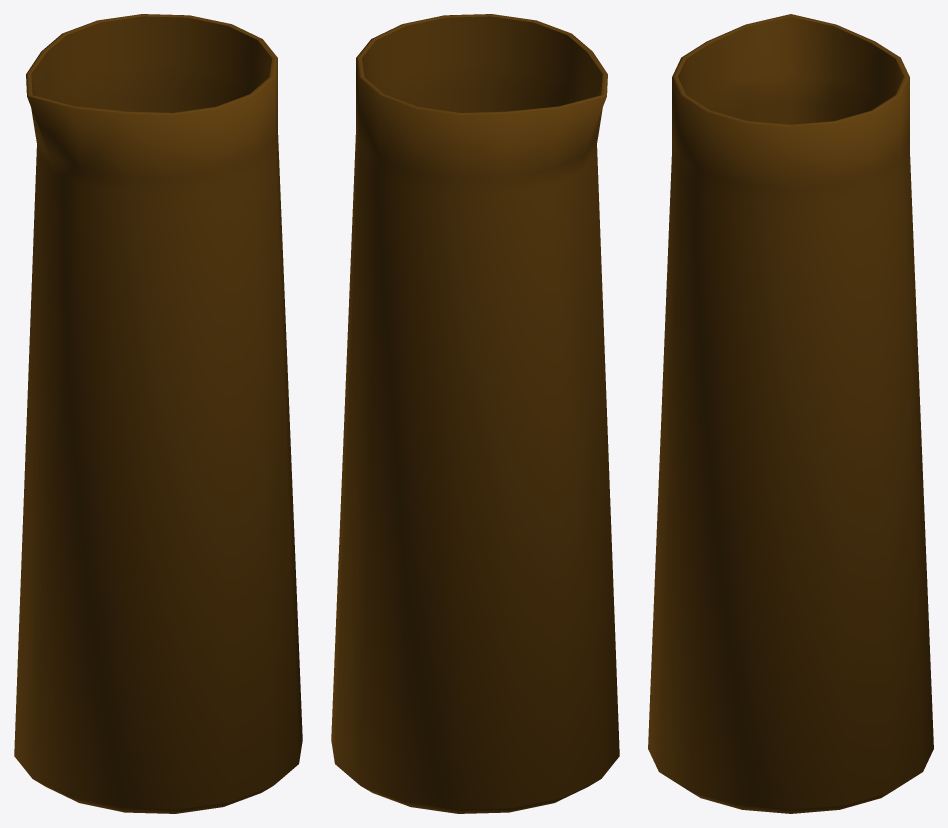
The model's file is Brocca.FBX.
The picture shows the model from 3 angles, left to right: view 1: azimuth 30°, elevation 25°; view 2: azimuth 150°, elevation 25°; view 3: azimuth 270°, elevation 25°; orthographic projection.
Visible parts, largest first — view 1: Brocca; view 2: Brocca; view 3: Brocca.
Boxes of the visible parts, x1=… form: Brocca: x1=14, y1=14, x2=302, y2=813; Brocca: x1=331, y1=14, x2=619, y2=813; Brocca: x1=648, y1=14, x2=933, y2=813.
Size of the model in its own units: 10.87 by 28.08 by 10.64.
